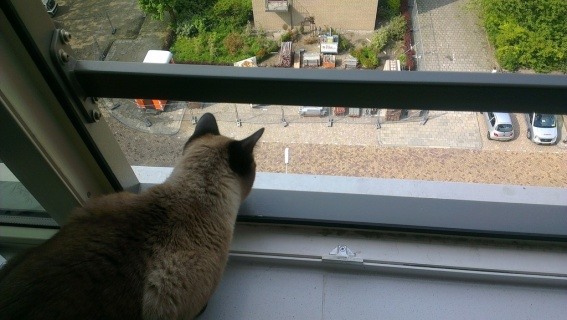Cat: (0, 109, 264, 319)
